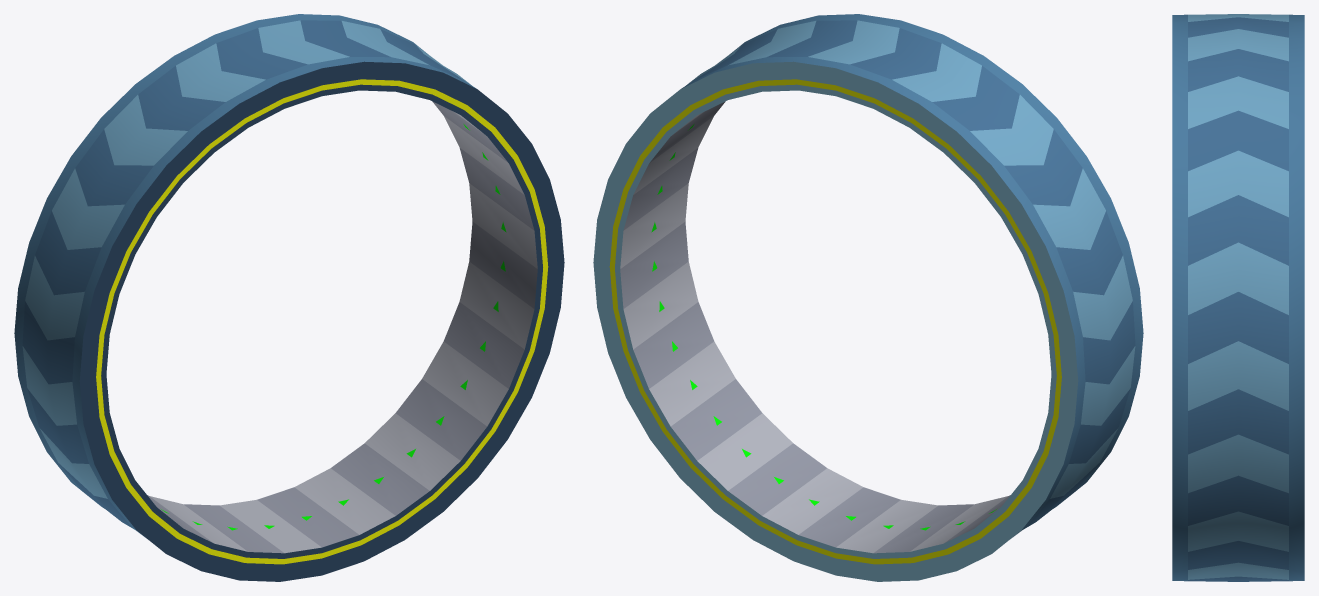
Rendered from NF_Number_Wheel_Ring.fbx.
3 views of the same model, side by side, from view 1: azimuth 30°, elevation 25°; view 2: azimuth 150°, elevation 25°; view 3: azimuth 270°, elevation 25° (orthographic).
Parts seen in each view (by area): view 1: NF_Number_Wheel_Ring; view 2: NF_Number_Wheel_Ring; view 3: NF_Number_Wheel_Ring.
Boxes of the visible parts, x1,y1,x2,y2 form: NF_Number_Wheel_Ring: (14,14,564,581); NF_Number_Wheel_Ring: (593,14,1143,581); NF_Number_Wheel_Ring: (1172,14,1304,581).
Bounding box in the file's own units: 6 × 6 × 1.4.
